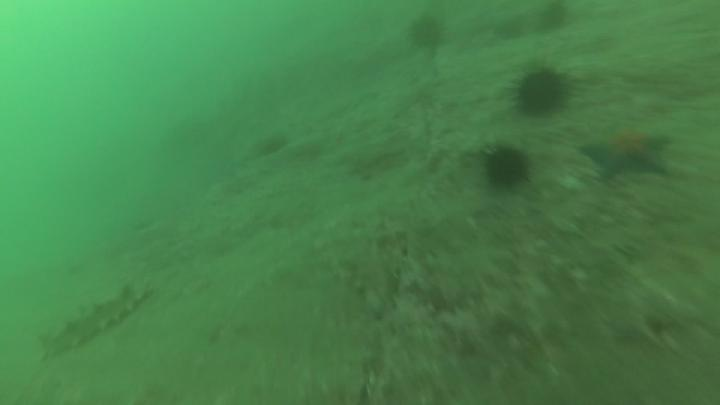echinus: (510, 64, 571, 120), (480, 143, 535, 194), (408, 13, 444, 51), (539, 1, 569, 32)
holothurian: (35, 278, 152, 369)
starfish: (575, 125, 674, 185)
